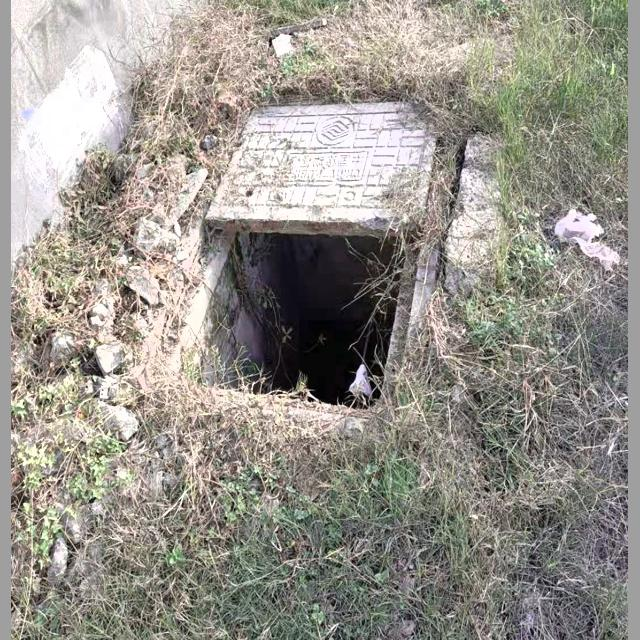lose: (179, 74, 471, 393)
